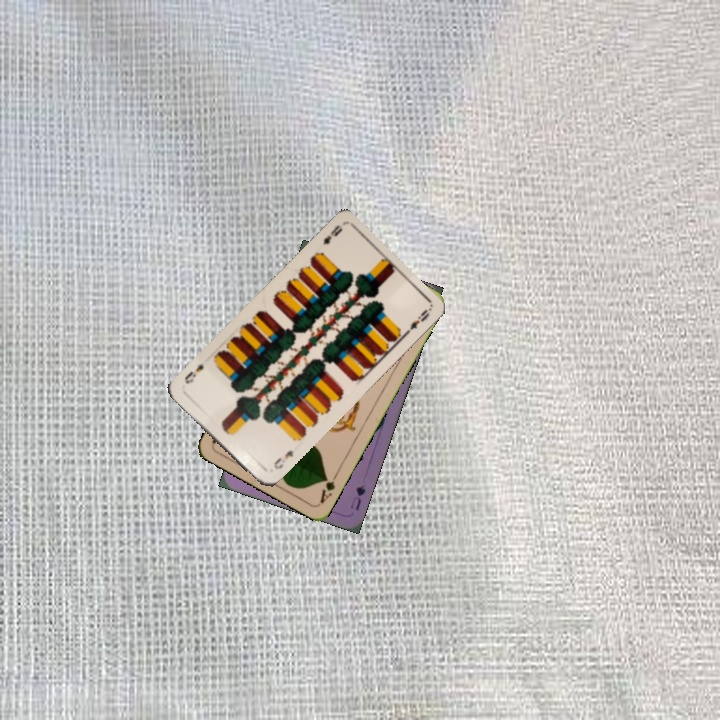E9: (270, 446, 296, 472), (319, 221, 345, 247)
GA: (316, 468, 341, 506)
GU: (346, 480, 368, 513)
